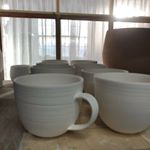cups: (9, 70, 102, 139), (92, 70, 150, 136)
